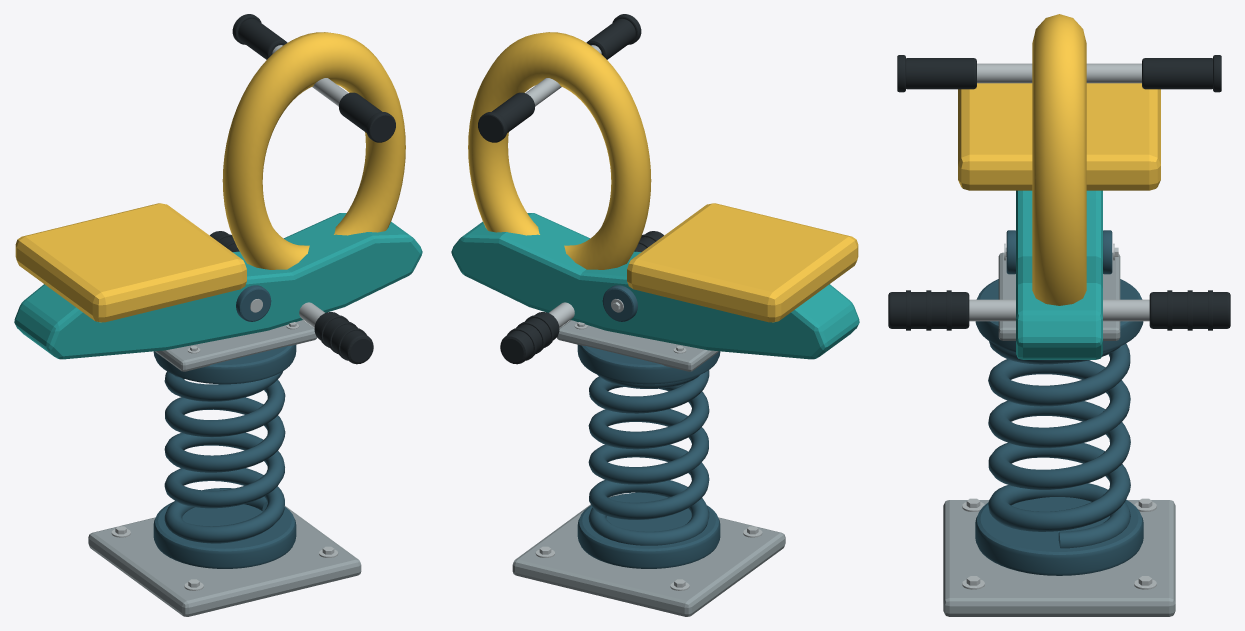
Rendered from city-spring-play-rider.glb.
The picture shows the model from 3 angles, left to right: view 1: azimuth 30°, elevation 25°; view 2: azimuth 150°, elevation 25°; view 3: azimuth 270°, elevation 25°; orthographic projection. The views are drawn at different scales.
Visible parts, largest first — view 1: Assembly | Golden yellow playground polymer, Assembly | Deep blue outdoor powder coat, Assembly | Teal molded playground polymer, Assembly | Galvanized mounting steel, Assembly | Charcoal rubber and recesses, Assembly | Satin stainless hardware; view 2: Assembly | Golden yellow playground polymer, Assembly | Deep blue outdoor powder coat, Assembly | Teal molded playground polymer, Assembly | Galvanized mounting steel, Assembly | Charcoal rubber and recesses, Assembly | Satin stainless hardware; view 3: Assembly | Golden yellow playground polymer, Assembly | Deep blue outdoor powder coat, Assembly | Galvanized mounting steel, Assembly | Charcoal rubber and recesses, Assembly | Teal molded playground polymer, Assembly | Satin stainless hardware.
Boxes of the visible parts, left/top/right/bottom form: Assembly | Golden yellow playground polymer: left=15, top=32, right=405, bottom=322; Assembly | Deep blue outdoor powder coat: left=153, top=285, right=296, bottom=568; Assembly | Teal molded playground polymer: left=14, top=213, right=422, bottom=359; Assembly | Galvanized mounting steel: left=88, top=320, right=361, bottom=616; Assembly | Charcoal rubber and recesses: left=210, top=14, right=395, bottom=364; Assembly | Satin stainless hardware: left=111, top=45, right=348, bottom=590; Assembly | Golden yellow playground polymer: left=468, top=32, right=858, bottom=322; Assembly | Deep blue outdoor powder coat: left=577, top=285, right=720, bottom=568; Assembly | Teal molded playground polymer: left=451, top=213, right=859, bottom=359; Assembly | Galvanized mounting steel: left=512, top=320, right=785, bottom=616; Assembly | Charcoal rubber and recesses: left=478, top=14, right=663, bottom=364; Assembly | Satin stainless hardware: left=525, top=45, right=762, bottom=590; Assembly | Golden yellow playground polymer: left=958, top=14, right=1160, bottom=305; Assembly | Deep blue outdoor powder coat: left=975, top=230, right=1143, bottom=575; Assembly | Galvanized mounting steel: left=943, top=252, right=1175, bottom=616; Assembly | Charcoal rubber and recesses: left=888, top=55, right=1230, bottom=330; Assembly | Teal molded playground polymer: left=1016, top=190, right=1102, bottom=359; Assembly | Satin stainless hardware: left=962, top=63, right=1156, bottom=589.
Size of the model in its own units: 0.8828 by 1.13 by 0.59.
